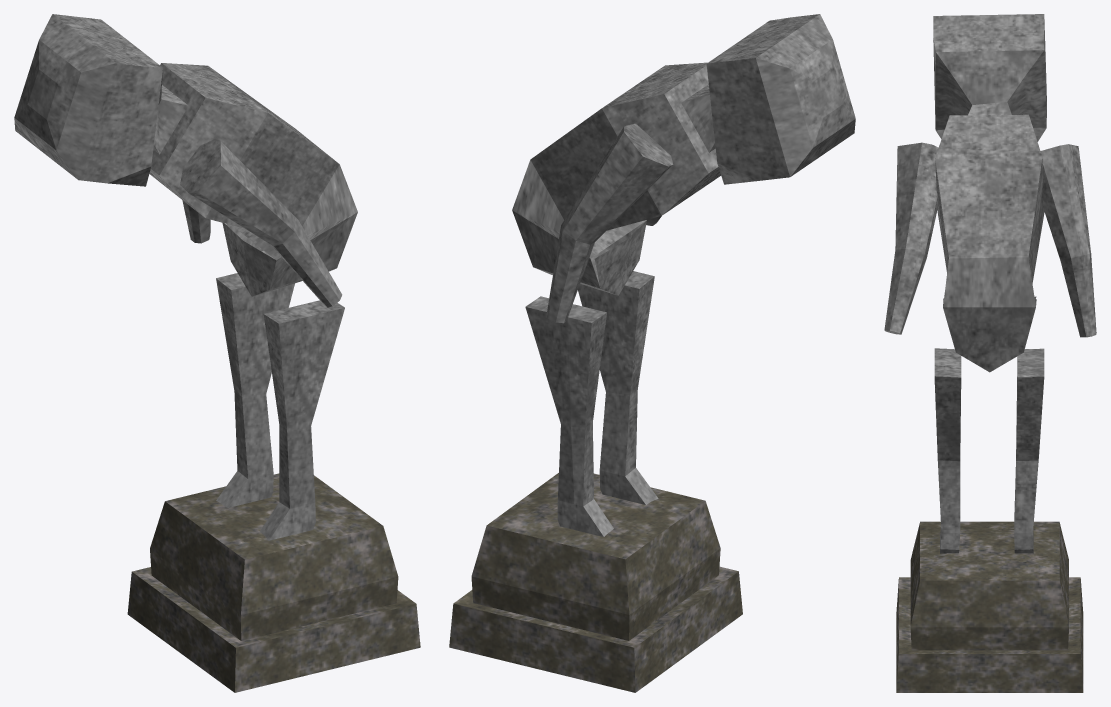
Rendered from Totem_D.fbx.
3 views of the same model, side by side, from view 1: azimuth 30°, elevation 25°; view 2: azimuth 150°, elevation 25°; view 3: azimuth 270°, elevation 25° (orthographic). The views are drawn at different scales.
Visible parts, largest first — view 1: Totem_D; view 2: Totem_D; view 3: Totem_D.
Part boxes in pixels (x1,y1,x2,y2): Totem_D: (14,14,420,692); Totem_D: (449,14,855,692); Totem_D: (884,14,1096,692).
Size of the model in its own units: 450 by 831 by 286.
Materials: 2 (2 with a texture image).
